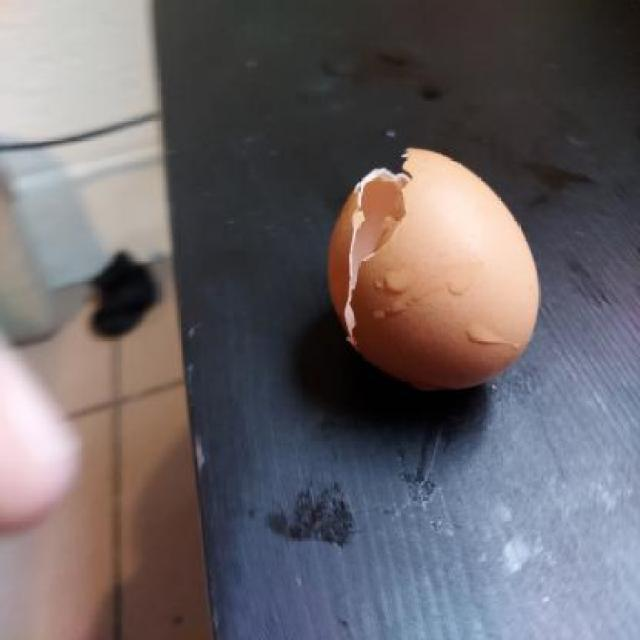biodegradable: (320, 142, 546, 395)
